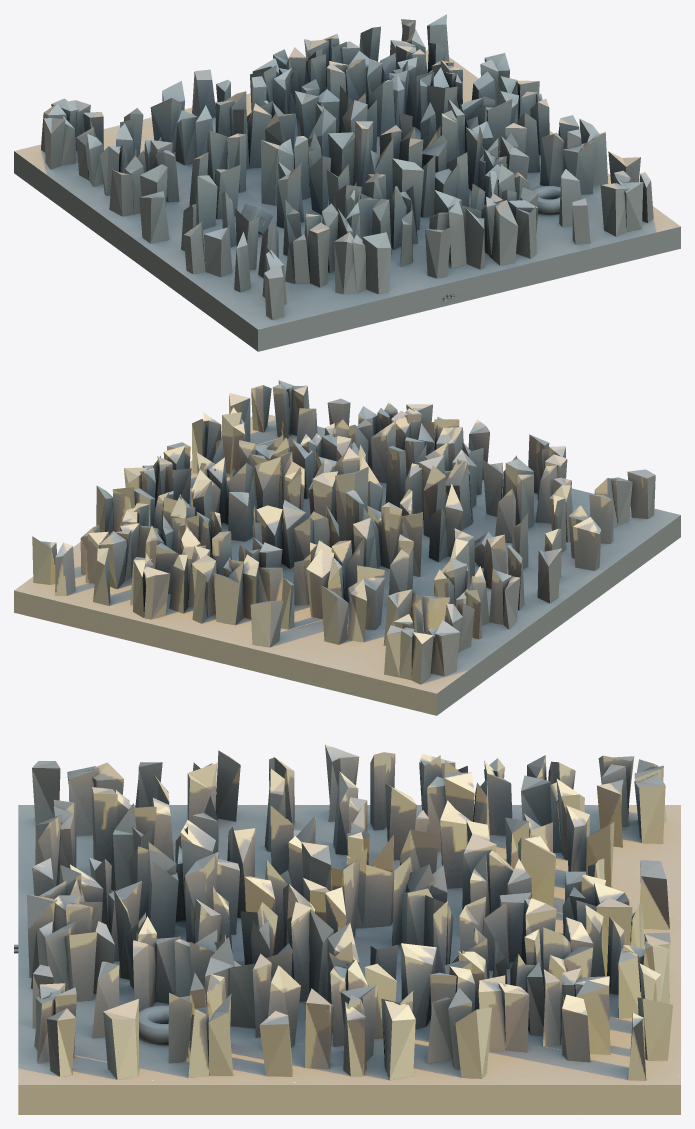
3 views of the same model, one above another, from view 1: azimuth 30°, elevation 25°; view 2: azimuth 150°, elevation 25°; view 3: azimuth 270°, elevation 25° (orthographic). The views are drawn at different scales.
Parts seen in each view (by area): view 1: base, building.010, building.015, building.049, building.007, building.058, building.022, building.051, building.011, building.070, building.003, building.059 (+62 smaller); view 2: base, building.015, building.010, building.007, building.022, building.043, building.012, building.027, building.026, building.008, building.059, building.013 (+57 smaller); view 3: base, building.010, building.015, building.007, building.008, building.039, building.040, building.059, building.022, building.076, building.047, building.043 (+72 smaller).
Part boxes in pixels (left/top/right/bottom): base: left=14, top=50, right=680, bottom=351; building.010: left=373, top=29, right=462, bottom=136; building.015: left=250, top=47, right=382, bottom=117; building.049: left=334, top=232, right=391, bottom=294; building.007: left=427, top=96, right=512, bottom=169; building.058: left=540, top=129, right=594, bottom=194; building.022: left=261, top=120, right=321, bottom=205; building.051: left=429, top=200, right=484, bottom=269; building.011: left=600, top=170, right=643, bottom=236; building.070: left=285, top=222, right=329, bottom=287; building.003: left=328, top=121, right=373, bottom=194; building.059: left=233, top=98, right=295, bottom=169; base: left=14, top=414, right=680, bottom=715; building.015: left=156, top=522, right=282, bottom=625; building.010: left=80, top=491, right=221, bottom=588; building.007: left=191, top=451, right=304, bottom=525; building.022: left=363, top=502, right=422, bottom=576; building.043: left=482, top=455, right=533, bottom=528; building.012: left=384, top=625, right=433, bottom=684; building.027: left=321, top=579, right=366, bottom=644; building.026: left=405, top=455, right=473, bottom=529; building.008: left=288, top=419, right=368, bottom=499; building.059: left=293, top=537, right=364, bottom=605; building.013: left=470, top=566, right=520, bottom=629; base: left=14, top=805, right=680, bottom=1114; building.010: left=430, top=927, right=610, bottom=1062; building.015: left=524, top=871, right=644, bottom=1005; building.007: left=286, top=902, right=396, bottom=1046; building.008: left=125, top=912, right=226, bottom=1012; building.039: left=31, top=921, right=114, bottom=1001; building.040: left=427, top=988, right=491, bottom=1078; building.059: left=462, top=820, right=531, bottom=917; building.022: left=346, top=804, right=393, bottom=928; building.076: left=205, top=937, right=271, bottom=1037; building.047: left=459, top=892, right=540, bottom=970; building.043: left=111, top=798, right=173, bottom=890.
Bounding box in the file's own units: 10 × 2.17 × 10.07.
2 materials, 2 textured.
